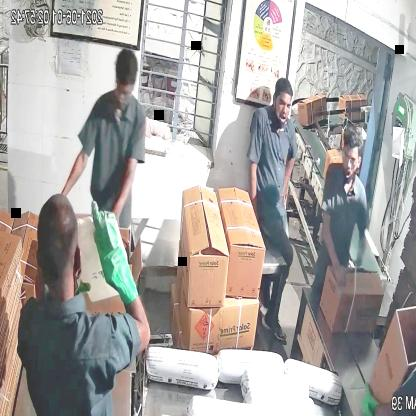goggles: (337, 149, 365, 171)
